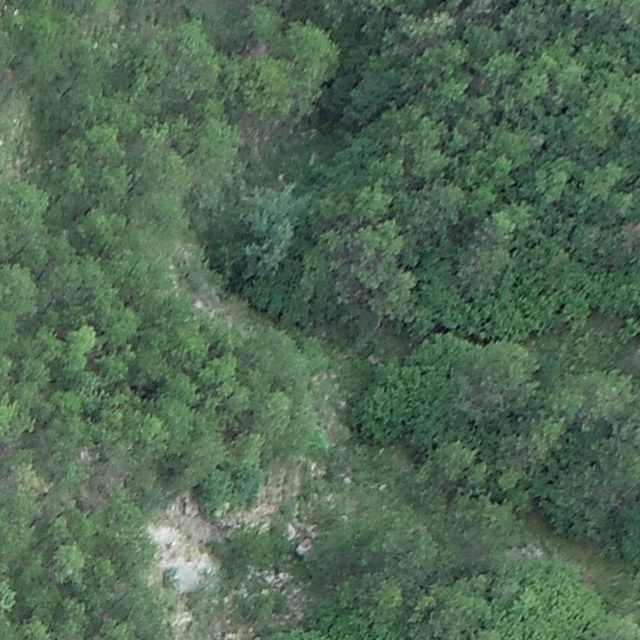unhealthy: (620, 218, 639, 256), (240, 37, 270, 60)
